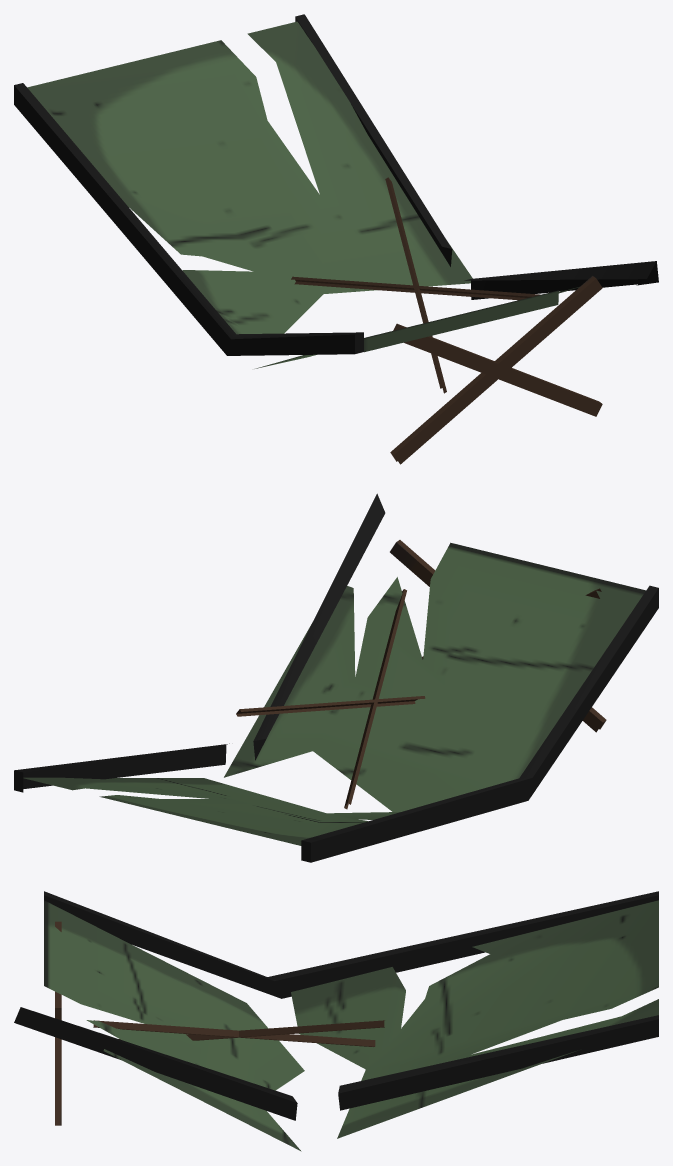
Rendered from Bed.destroyed.fbx.
3 renders of one model, top to bottom at view 1: azimuth 30°, elevation 25°; view 2: azimuth 150°, elevation 25°; view 3: azimuth 270°, elevation 25°, orthographic. The views are drawn at different scales.
Visible parts, largest first — view 1: Bed_Mesh_Destr; view 2: Bed_Mesh_Destr; view 3: Bed_Mesh_Destr.
Part boxes in pixels (left/top/right/bottom): Bed_Mesh_Destr: left=14, top=14, right=658, bottom=464; Bed_Mesh_Destr: left=14, top=493, right=658, bottom=862; Bed_Mesh_Destr: left=14, top=891, right=658, bottom=1151.
Size of the model in its own units: 0.9845 by 0.5339 by 2.1.
1 material, 1 textured.
